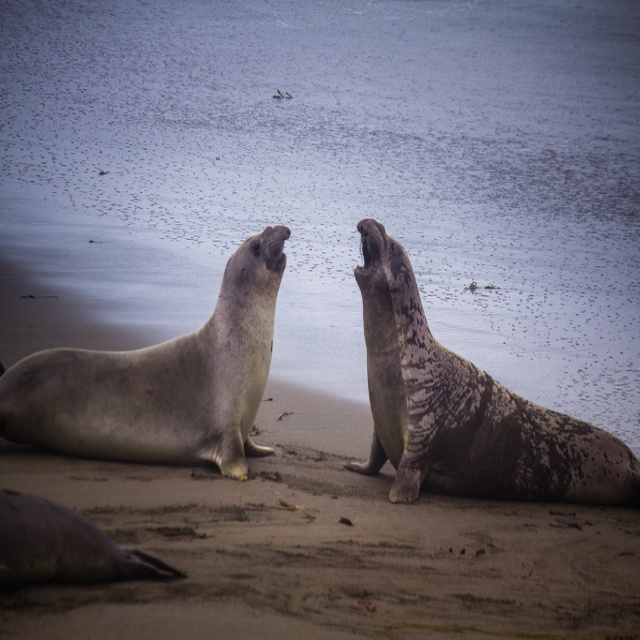Sea lion: (345, 222, 640, 511), (0, 225, 290, 483), (0, 482, 184, 587)
